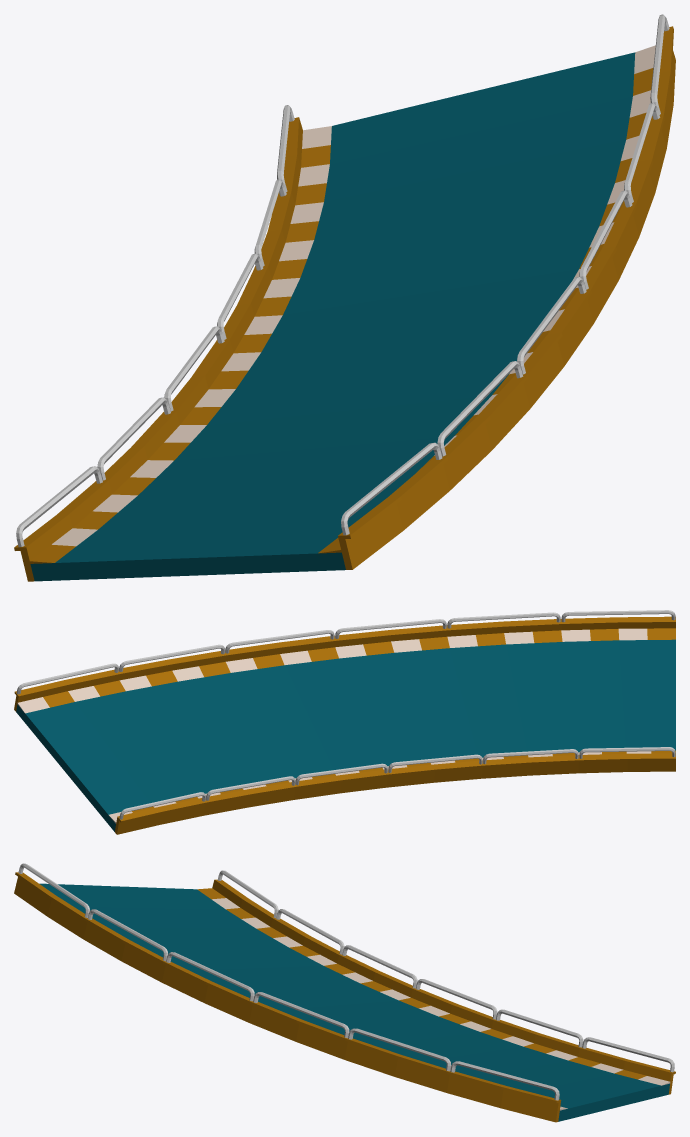
The model's file is bankedRight-30-15_l.FBX.
3 renders of one model, top to bottom at view 1: azimuth 30°, elevation 25°; view 2: azimuth 150°, elevation 25°; view 3: azimuth 270°, elevation 25°, orthographic. The views are drawn at different scales.
Visible parts, largest first — view 1: bankedRight-30-15_l, wall_l, wall_r, curbs_r, curbs_l; view 2: bankedRight-30-15_l, wall_r, wall_l, curbs_l, curbs_r; view 3: bankedRight-30-15_l, wall_l, wall_r, curbs_r.
Boxes of the visible parts, <box> form: bankedRight-30-15_l: <box>30,52,635,581</box>; wall_l: <box>338,14,675,569</box>; wall_r: <box>14,105,302,581</box>; curbs_r: <box>30,126,331,563</box>; curbs_l: <box>318,45,655,553</box>; bankedRight-30-15_l: <box>16,639,675,831</box>; wall_r: <box>115,747,675,834</box>; wall_l: <box>14,610,675,711</box>; curbs_l: <box>17,628,675,713</box>; curbs_r: <box>109,750,675,823</box>; bankedRight-30-15_l: <box>39,883,669,1121</box>; wall_l: <box>14,863,561,1122</box>; wall_r: <box>212,870,675,1094</box>; curbs_r: <box>197,888,670,1085</box>.
Size of what is drawn, in the model's own units: 556 by 80.3 by 556.
